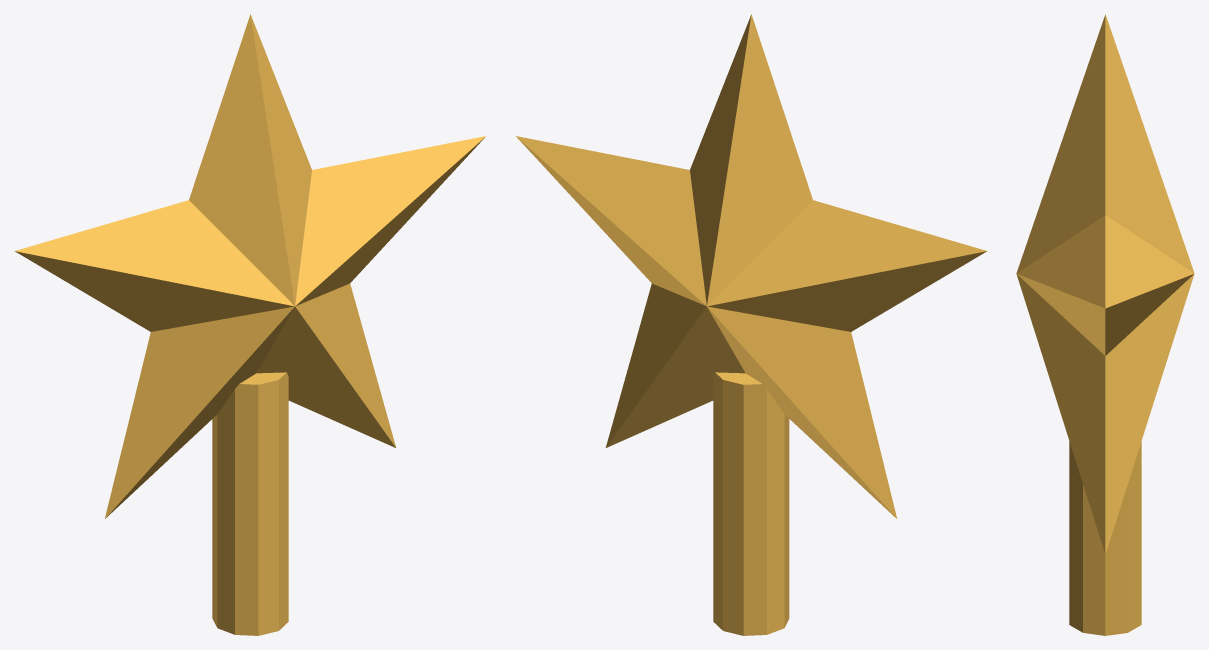
File: star.glb
3 views of the same model, side by side, from view 1: azimuth 30°, elevation 25°; view 2: azimuth 150°, elevation 25°; view 3: azimuth 270°, elevation 25° (orthographic).
Parts seen in each view (by area): view 1: star, stem; view 2: star, stem; view 3: star, stem.
Boxes of the visible parts, box(x1,y1,x2,y2) form: star: box(14, 14, 485, 518); stem: box(212, 372, 288, 635); star: box(516, 14, 987, 518); stem: box(713, 372, 789, 635); star: box(1016, 14, 1194, 554); stem: box(1069, 441, 1141, 635).
Size of the model in its own units: 0.1712 by 0.21 by 0.056.
